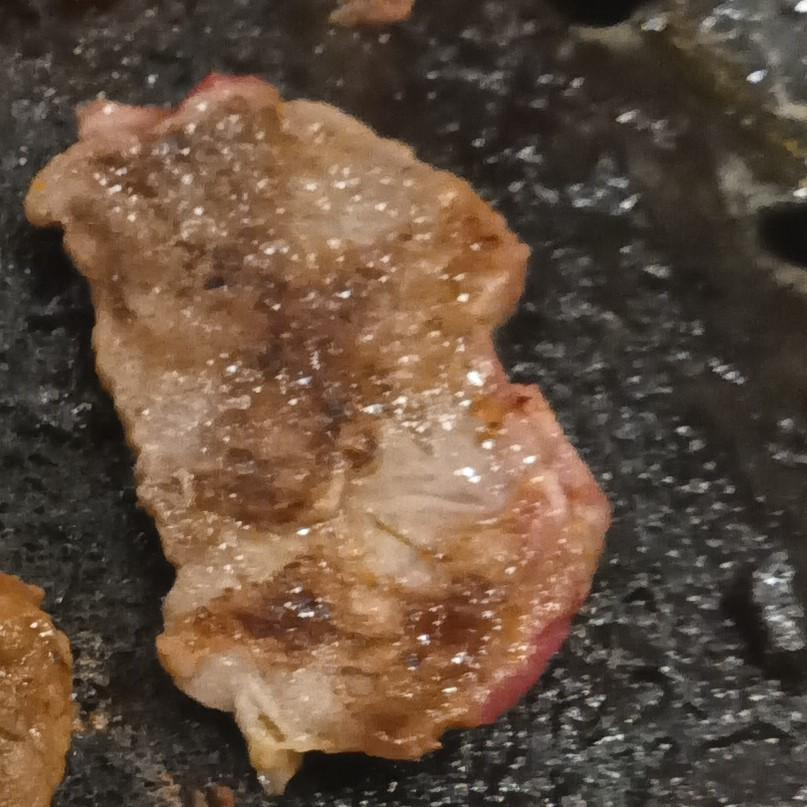Overcooked: (21, 74, 613, 797)
